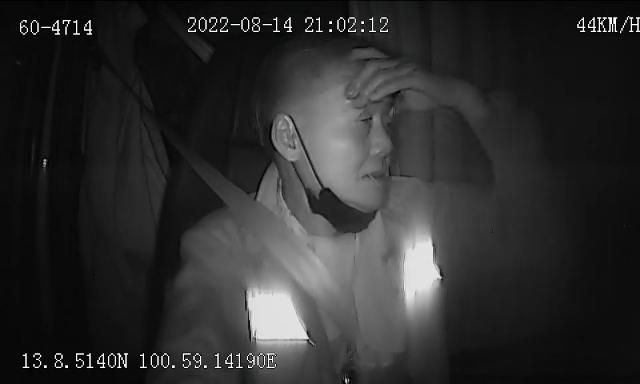Seatbelt: (166, 129, 360, 345)
